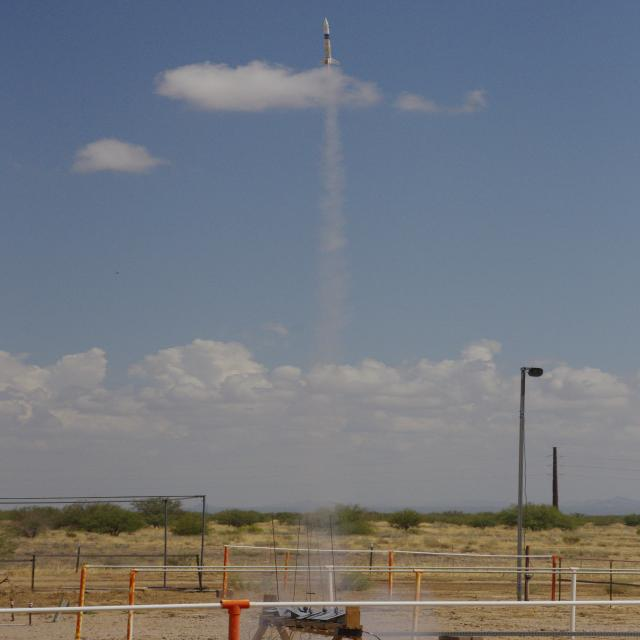Rocket: (319, 18, 340, 66)
